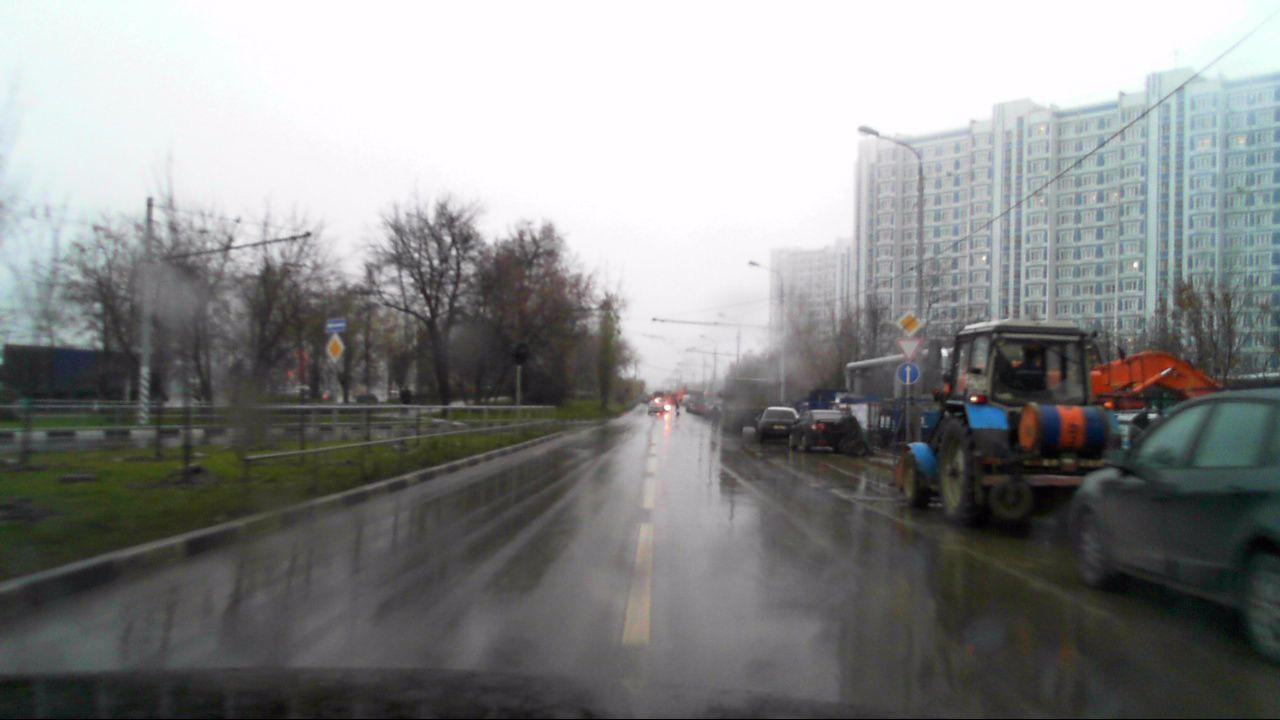2_1: (325, 334, 346, 362)
2_2: (896, 310, 922, 337)
2_4: (895, 337, 923, 361)
4_1_1: (895, 363, 921, 385)
5_7_2: (324, 318, 349, 332)
